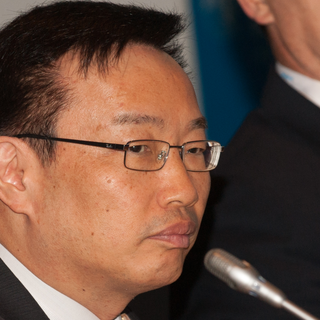eye: (125, 140, 154, 157), (181, 142, 206, 158)
